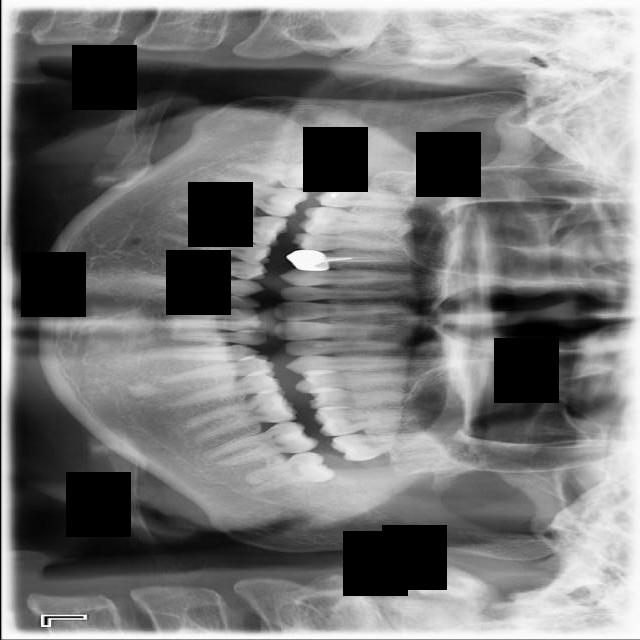52: (313, 180, 367, 209), (283, 247, 331, 273)
73: (322, 247, 404, 269), (52, 614, 74, 618)
BioHorizons Implant: (328, 426, 438, 464)
Biomet 3i Implant: (240, 446, 337, 496)
Blue Sky Bio Implant: (200, 415, 322, 470)
Caries: (313, 181, 414, 210)
Implant: (196, 171, 309, 222)
Keystone Dental Implant: (221, 147, 325, 194)
